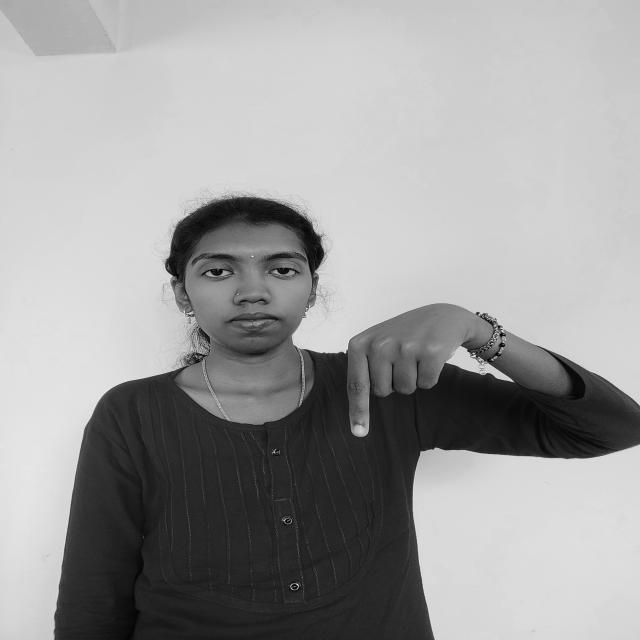Now: (335, 294, 487, 451)
